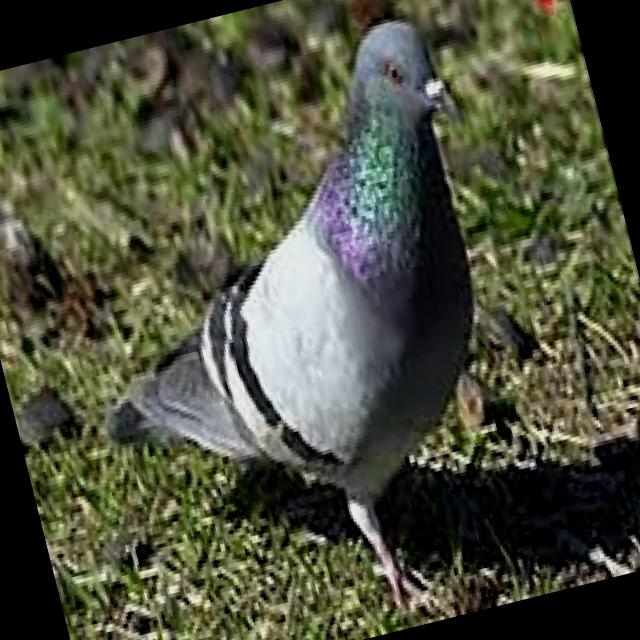bird: (15, 0, 584, 640)
